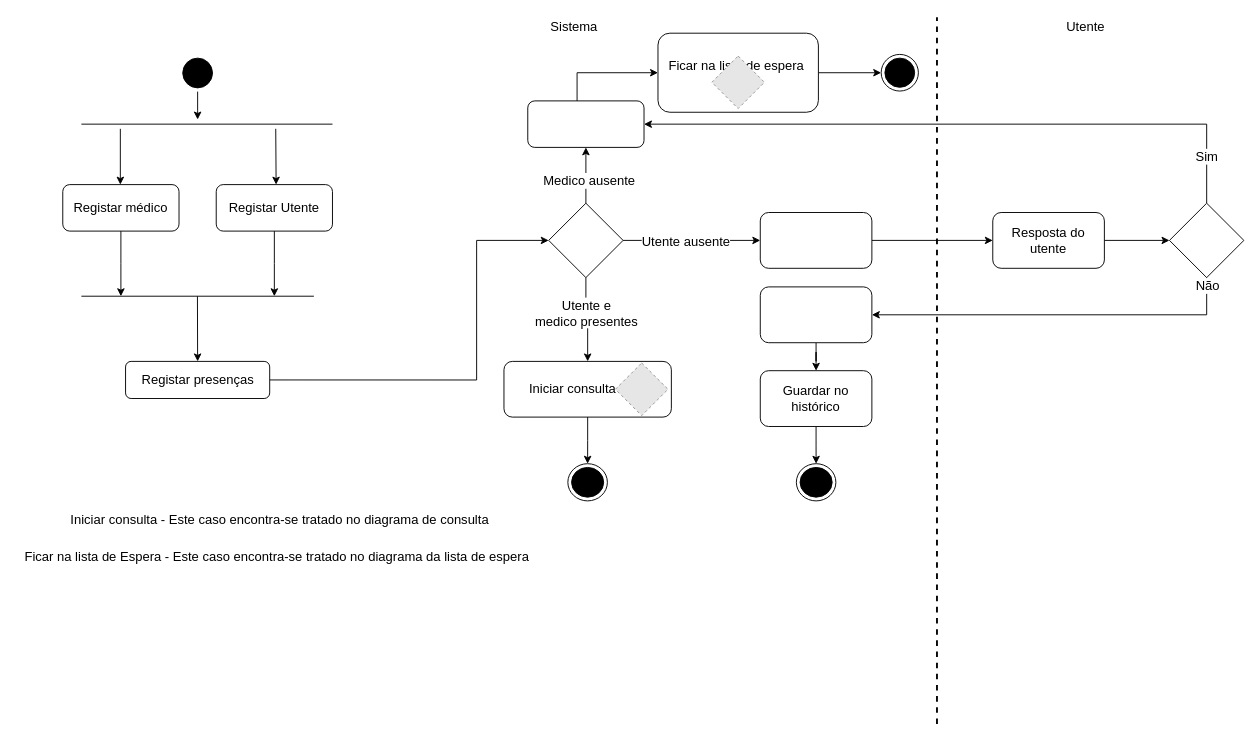
Some shapes in this 1260 by 741 pixel diagram are drawn without their labels. Grey dashed boxes stand in for pictures. The centre of each missing label's shape, as x and y in pixels:
Cancelamento da consulta: the point at 815,314
Perguntar se quer reagendar: the point at 815,240
Reagendar consulta: the point at 585,123
